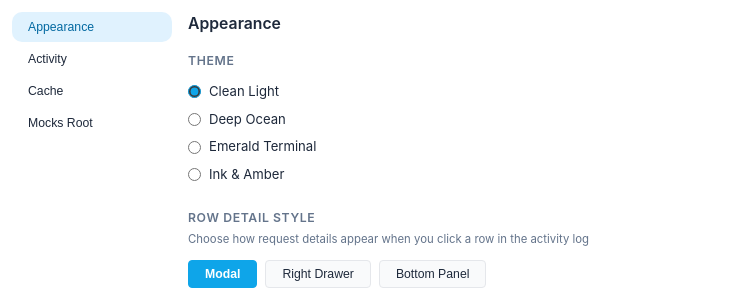
Test: SettingsPage › switches section when a nav button is clicked
Expected: the element with test id "settings-appearance" is shown, left=188, top=53, right=589, bottom=288
// Click activity
Click the button with test id "settings-nav-activity": coordinates (92, 59) left=12, top=44, right=172, bottom=74
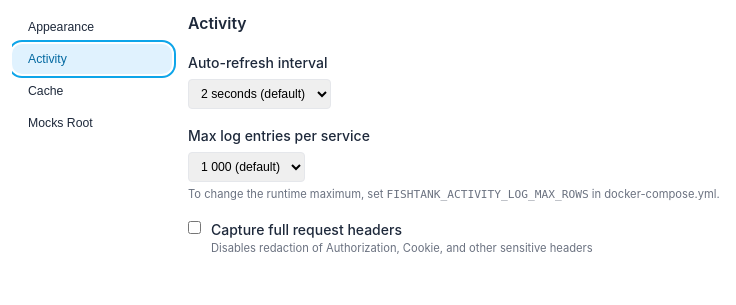
Expected: the element with test id "settings-appearance" is gone
